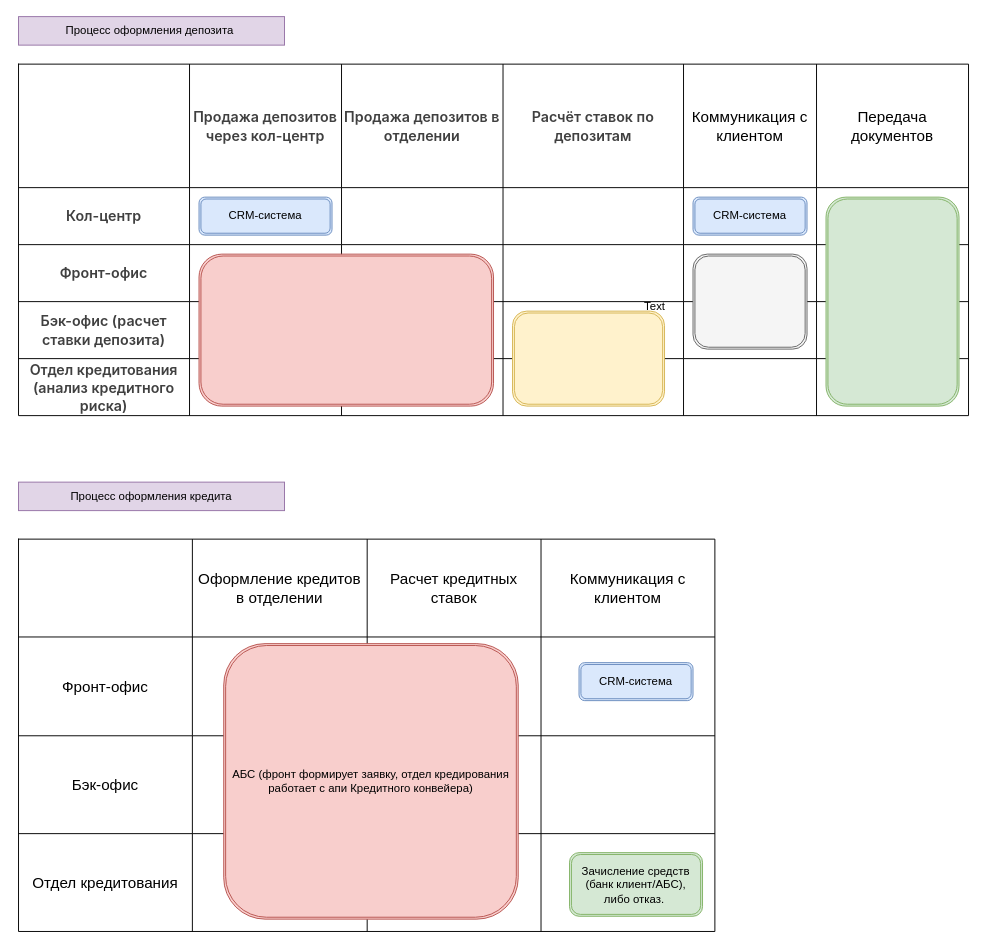
Some shapes in this 985 by 948 pixel diagram are drawn without their labels. Here are the shapes that lost their labels. From the top down, the box of each, then its label:
(692, 253, 807, 349): СМС-оповещение
(825, 196, 959, 406): Электронная почта
(198, 253, 494, 406): АБС
(512, 310, 665, 406): EXCEL
